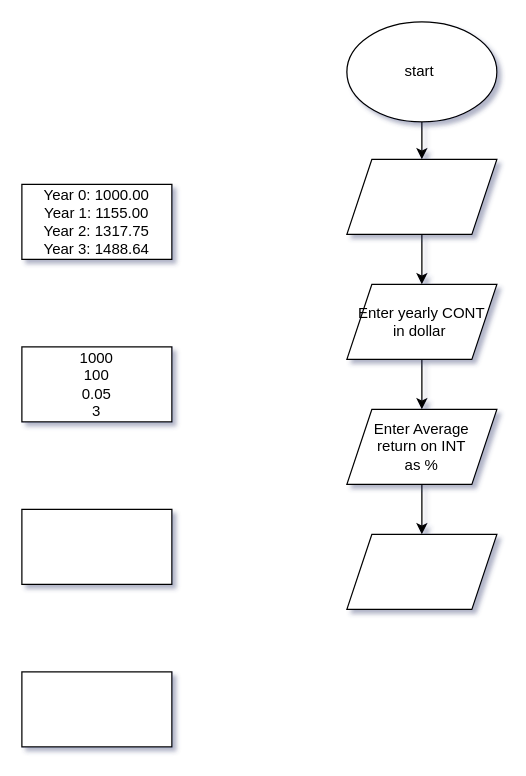
This 526x776 diagram has some shape labels left out. The shapes that lost their labels are listed below. From the top down, each one's centre as x and y in pixels, then its label:
At point 421,196: "Enter Starting balance in dollar".
At point 421,571: "Enter Number of year s for the report".
